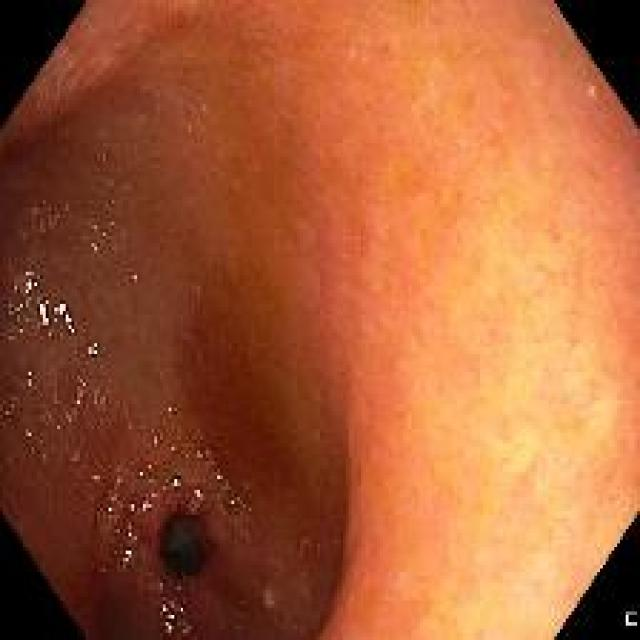bubbles: (58, 378, 89, 435), (160, 598, 194, 636), (113, 543, 140, 576), (203, 462, 226, 496), (1, 394, 21, 424), (91, 388, 111, 417), (224, 492, 241, 518), (105, 524, 122, 550), (107, 477, 125, 492), (98, 559, 110, 576), (21, 426, 34, 441), (35, 411, 46, 424)
contrast: (155, 506, 216, 584)
specularity: (57, 377, 89, 437), (95, 123, 118, 197), (80, 214, 115, 256), (158, 594, 189, 633), (5, 266, 44, 297), (51, 299, 79, 338), (33, 295, 55, 339), (19, 365, 35, 397), (6, 299, 26, 322), (120, 546, 135, 571), (128, 269, 141, 289), (85, 342, 100, 359), (139, 499, 152, 515), (172, 474, 184, 489), (193, 486, 204, 502), (137, 468, 146, 481), (150, 487, 159, 500), (123, 524, 134, 534), (195, 448, 203, 461), (228, 496, 238, 506), (213, 472, 223, 482), (125, 500, 134, 511), (106, 506, 115, 517), (91, 472, 97, 483), (166, 407, 173, 416)
